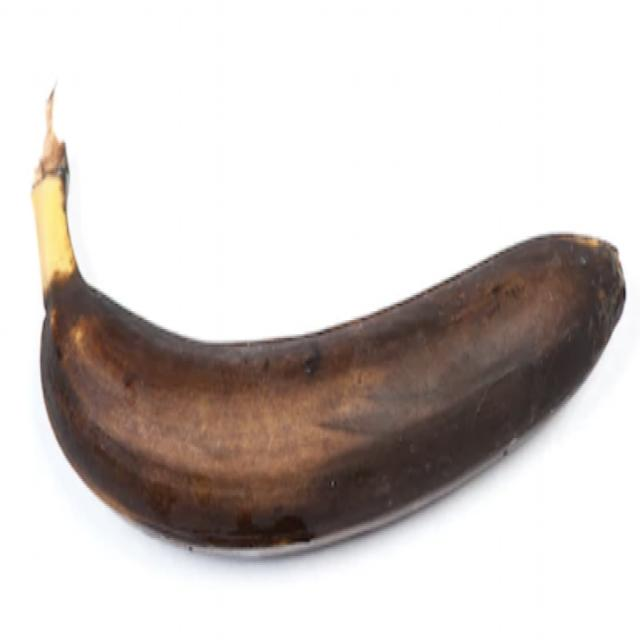rotten-banana: (34, 191, 626, 551)
